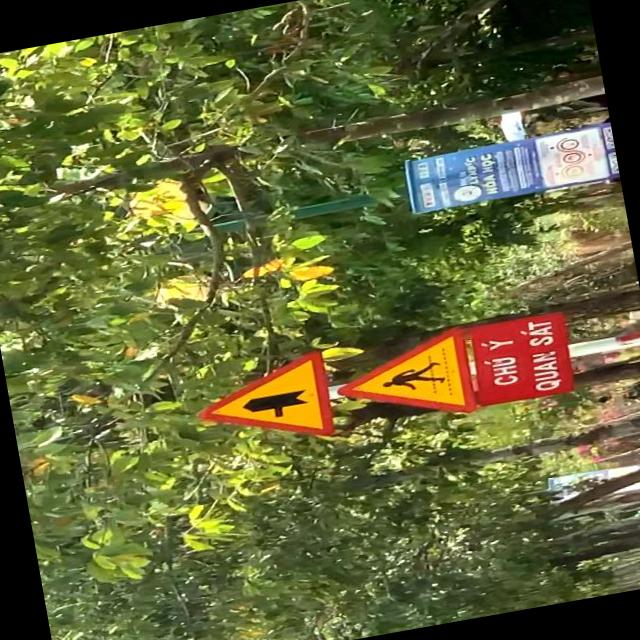W-207c: (187, 348, 338, 457)
W-224: (328, 326, 480, 433)
